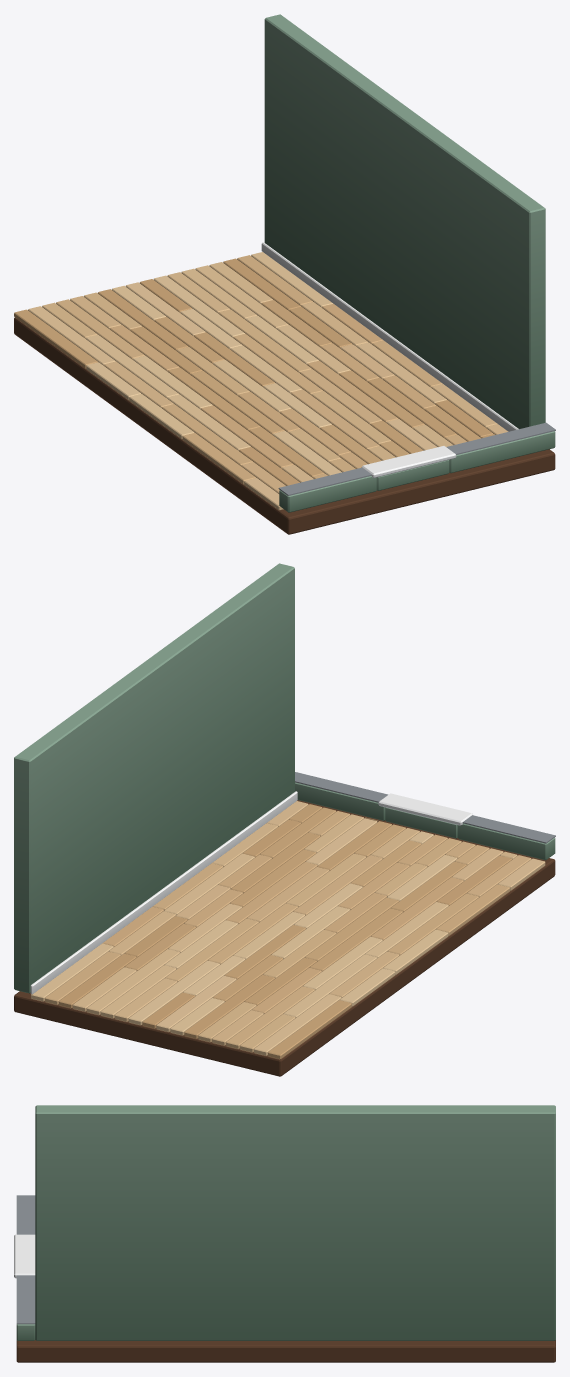
File: house-study.glb
3 views of the same model, one above another, from view 1: azimuth 30°, elevation 25°; view 2: azimuth 150°, elevation 25°; view 3: azimuth 270°, elevation 25° (orthographic). The views are drawn at different scales.
Visible parts, largest first — view 1: floor-study, wall-study-east, wall-study-courtyard; view 2: floor-study, wall-study-east, wall-study-courtyard; view 3: wall-study-east, floor-study, wall-study-courtyard.
Boxes of the visible parts, x1,y1,x2,y2 form: floor-study: [14, 252, 555, 534]; wall-study-east: [261, 14, 545, 431]; wall-study-courtyard: [278, 422, 555, 512]; floor-study: [14, 800, 555, 1076]; wall-study-east: [14, 563, 297, 994]; wall-study-courtyard: [295, 772, 555, 860]; wall-study-east: [35, 1105, 555, 1340]; floor-study: [16, 1340, 555, 1362]; wall-study-courtyard: [14, 1195, 35, 1340].
Size of the model in its own units: 4.8 by 4.38 by 8.59.
1 material, 1 textured.
